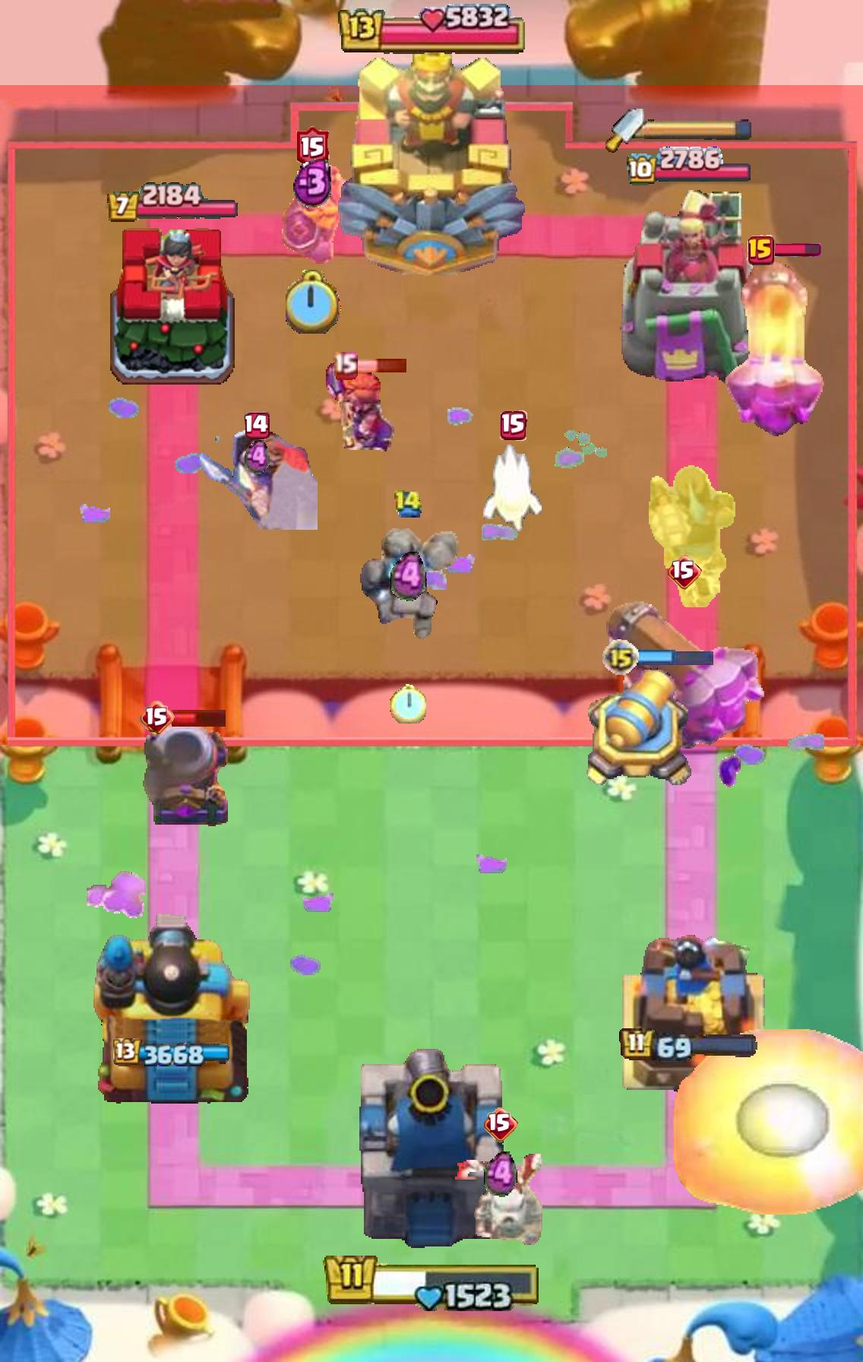cannon: (581, 660, 700, 797)
elixir: (292, 156, 334, 207), (391, 551, 427, 605), (484, 1150, 517, 1200), (244, 439, 269, 477)
fireball: (663, 1029, 863, 1215)
